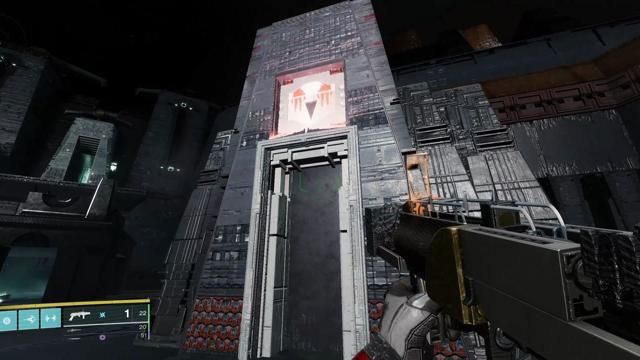give: (288, 81, 336, 125)
